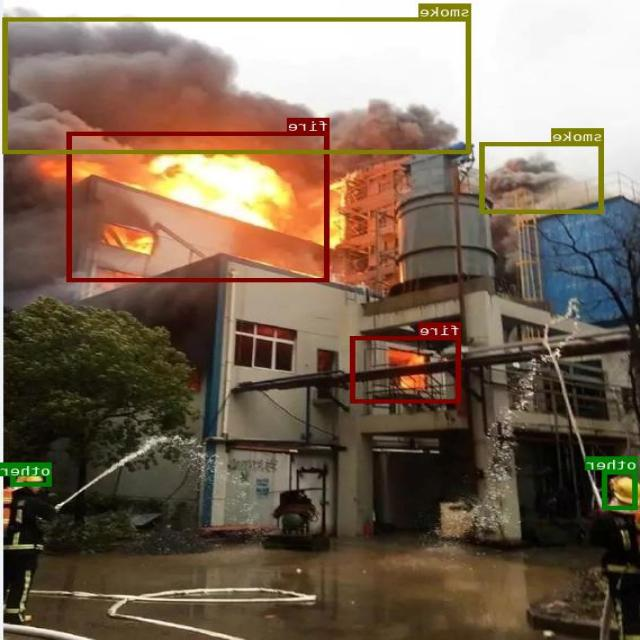fire: (68, 131, 330, 281), (351, 336, 462, 402)
other: (604, 470, 638, 509), (12, 462, 52, 486)
smoke: (4, 17, 472, 153), (480, 141, 604, 213)
